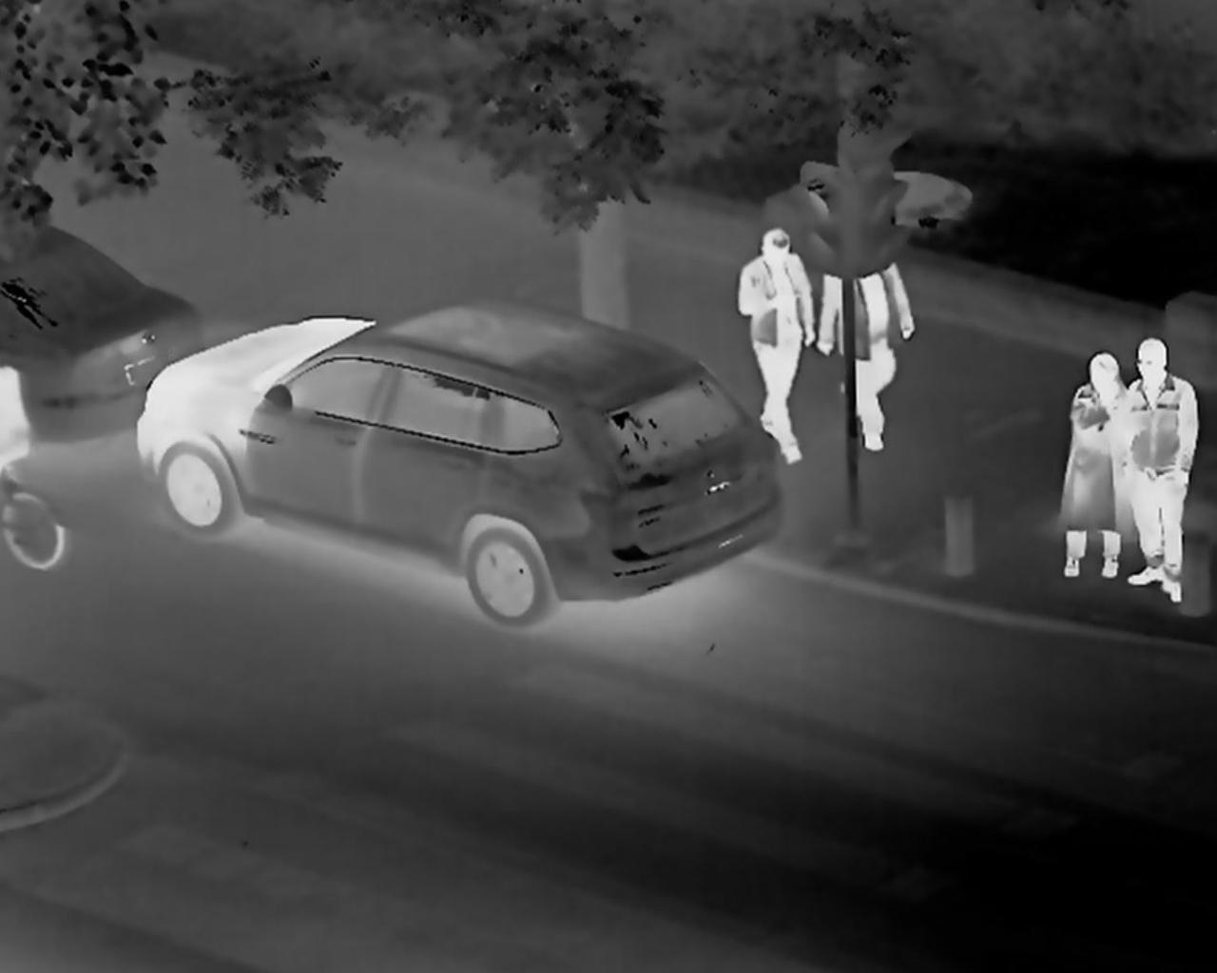person: (717, 219, 808, 465), (1121, 333, 1209, 579), (815, 264, 919, 453), (1059, 320, 1115, 629)
